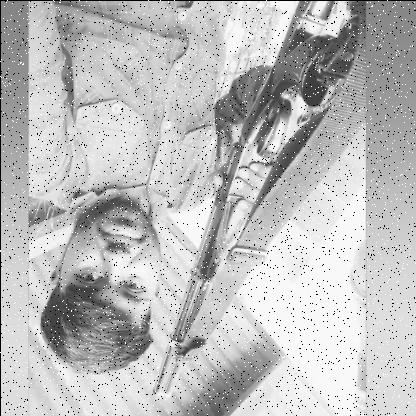rifle: (150, 0, 338, 398)
